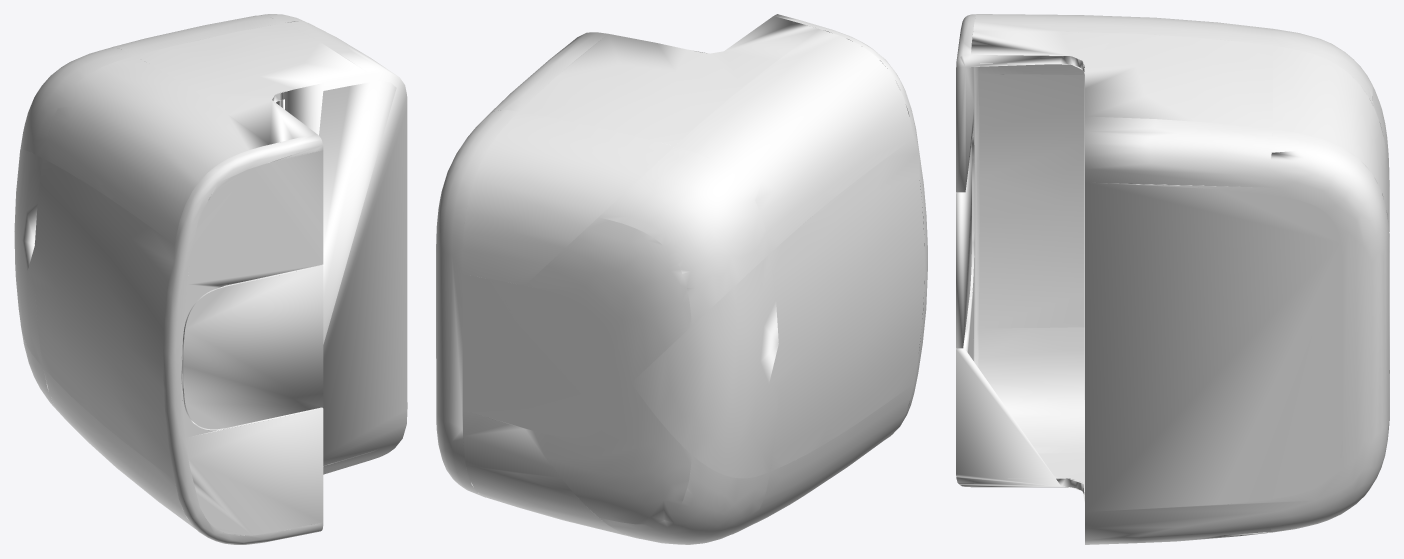
File: wrist_roll.obj
3 renders of one model, left to right at view 1: azimuth 30°, elevation 25°; view 2: azimuth 150°, elevation 25°; view 3: azimuth 270°, elevation 25°, orthographic. The views are drawn at different scales.
Parts seen in each view (by area): view 1: SM_Wrist_Roll; view 2: SM_Wrist_Roll; view 3: SM_Wrist_Roll.
Part boxes in pixels (bbox=[...]): SM_Wrist_Roll: bbox=[14, 14, 407, 544]; SM_Wrist_Roll: bbox=[436, 14, 927, 544]; SM_Wrist_Roll: bbox=[956, 14, 1389, 544].
Size of the model in its own units: 0.0787 by 0.1018 by 0.0925.
1 material, 1 textured.
